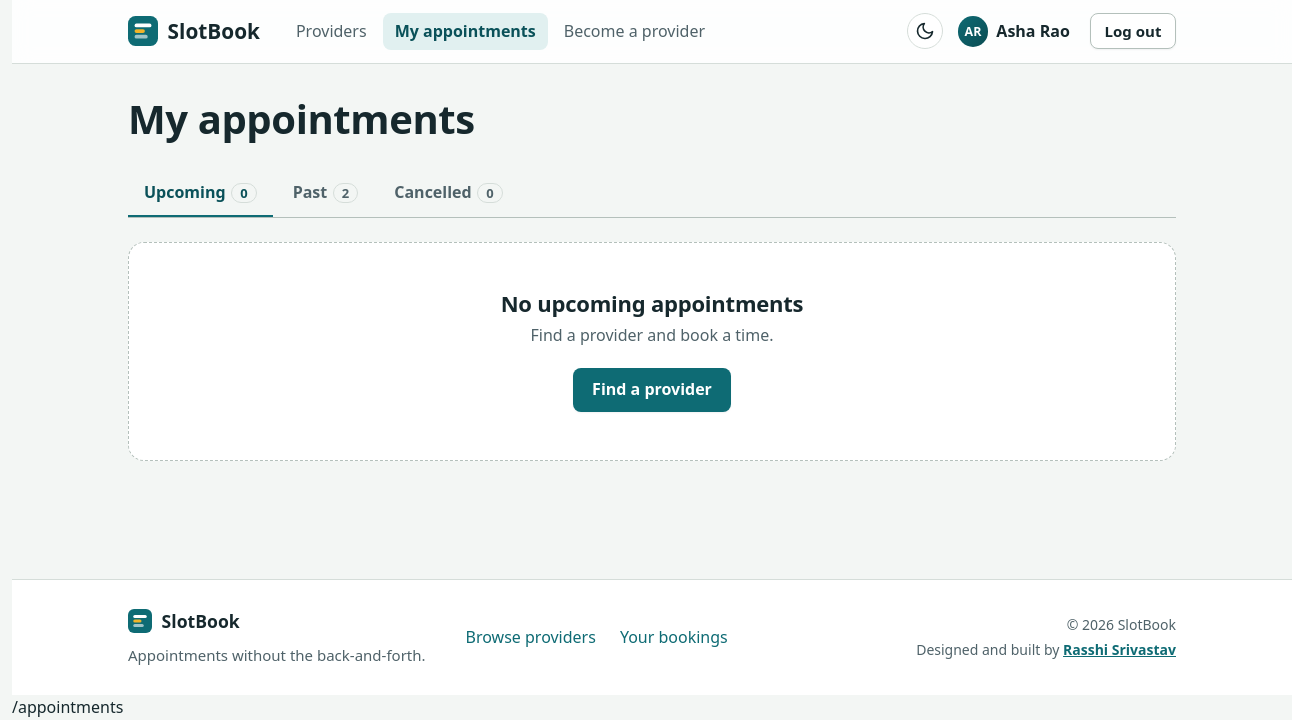
Test: reviewing a finished appointment › shows a past booking as Completed, and an existing review under it
The width and height of the screenshot is (1292, 720).
Click the tab "Past2".
click(325, 194)  # box [277, 170, 374, 218]
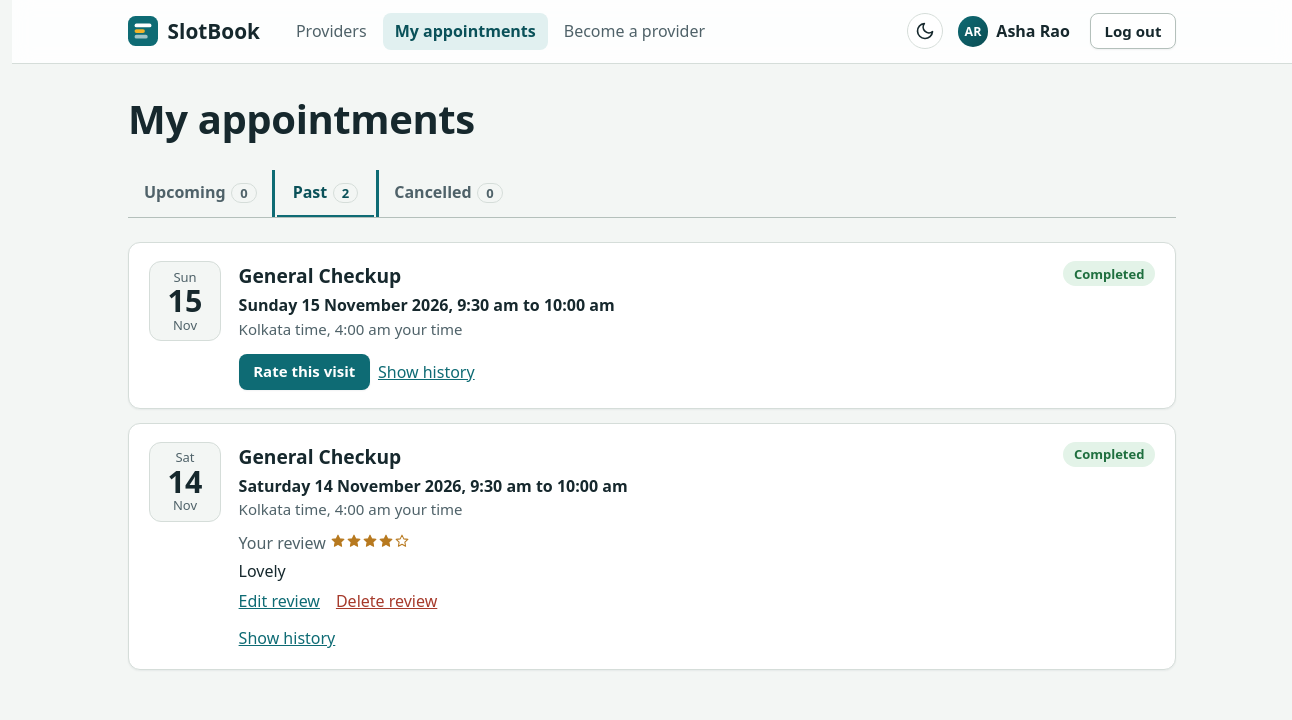
Expected: the text "Completed" is shown 2 times, [1063, 261, 1155, 286]; [1063, 442, 1155, 467]
Expected: the picture named "4 out of 5" is shown, [330, 533, 410, 549]
Expected: the text "Lovely" is shown, [239, 560, 286, 582]
